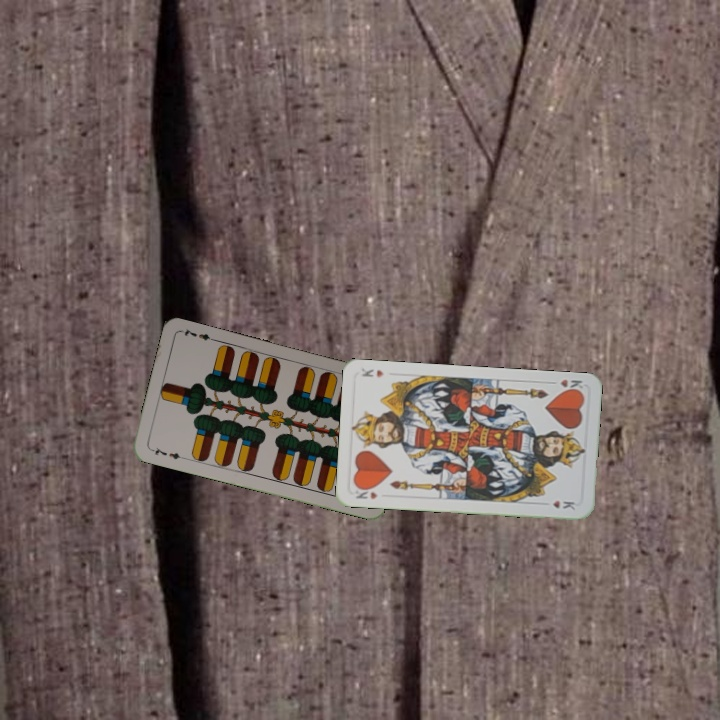E7: (147, 444, 187, 462)
HK: (546, 375, 586, 395), (351, 483, 380, 502)
